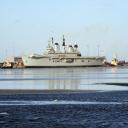Portanaves: (21, 37, 108, 71)
